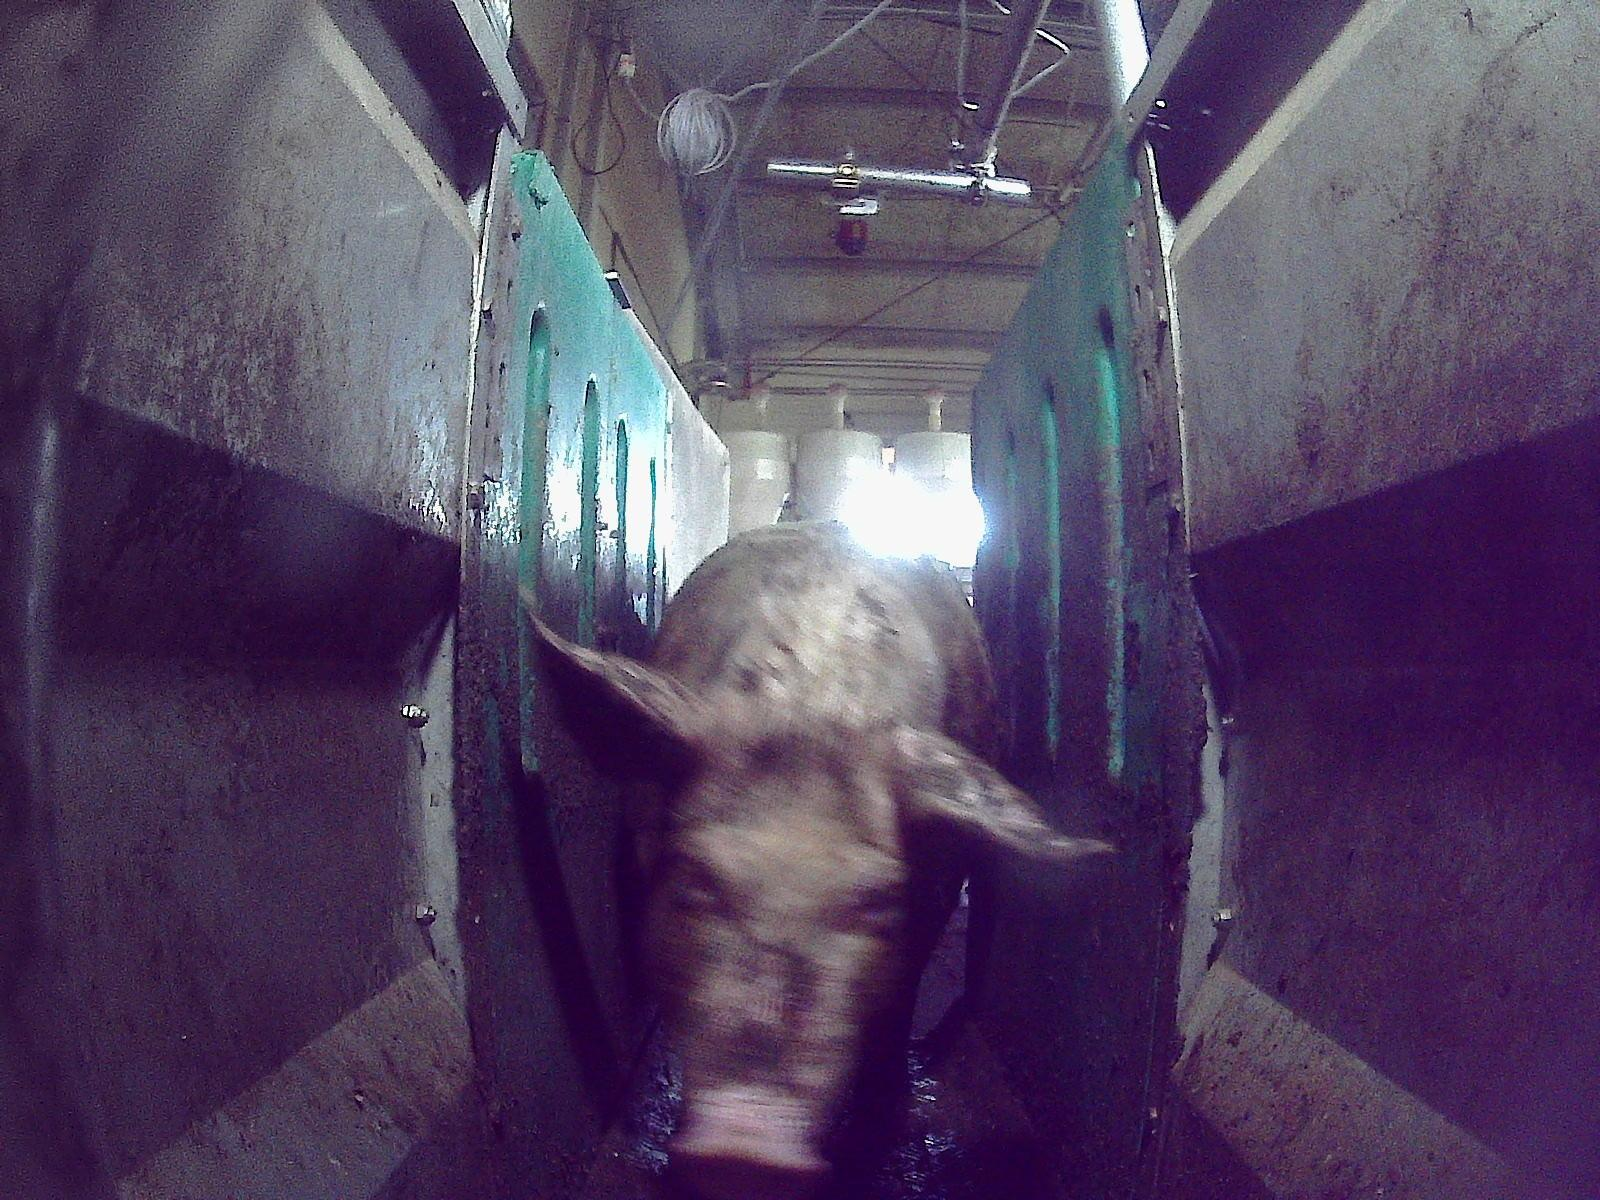Face: (637, 707, 928, 1199)
